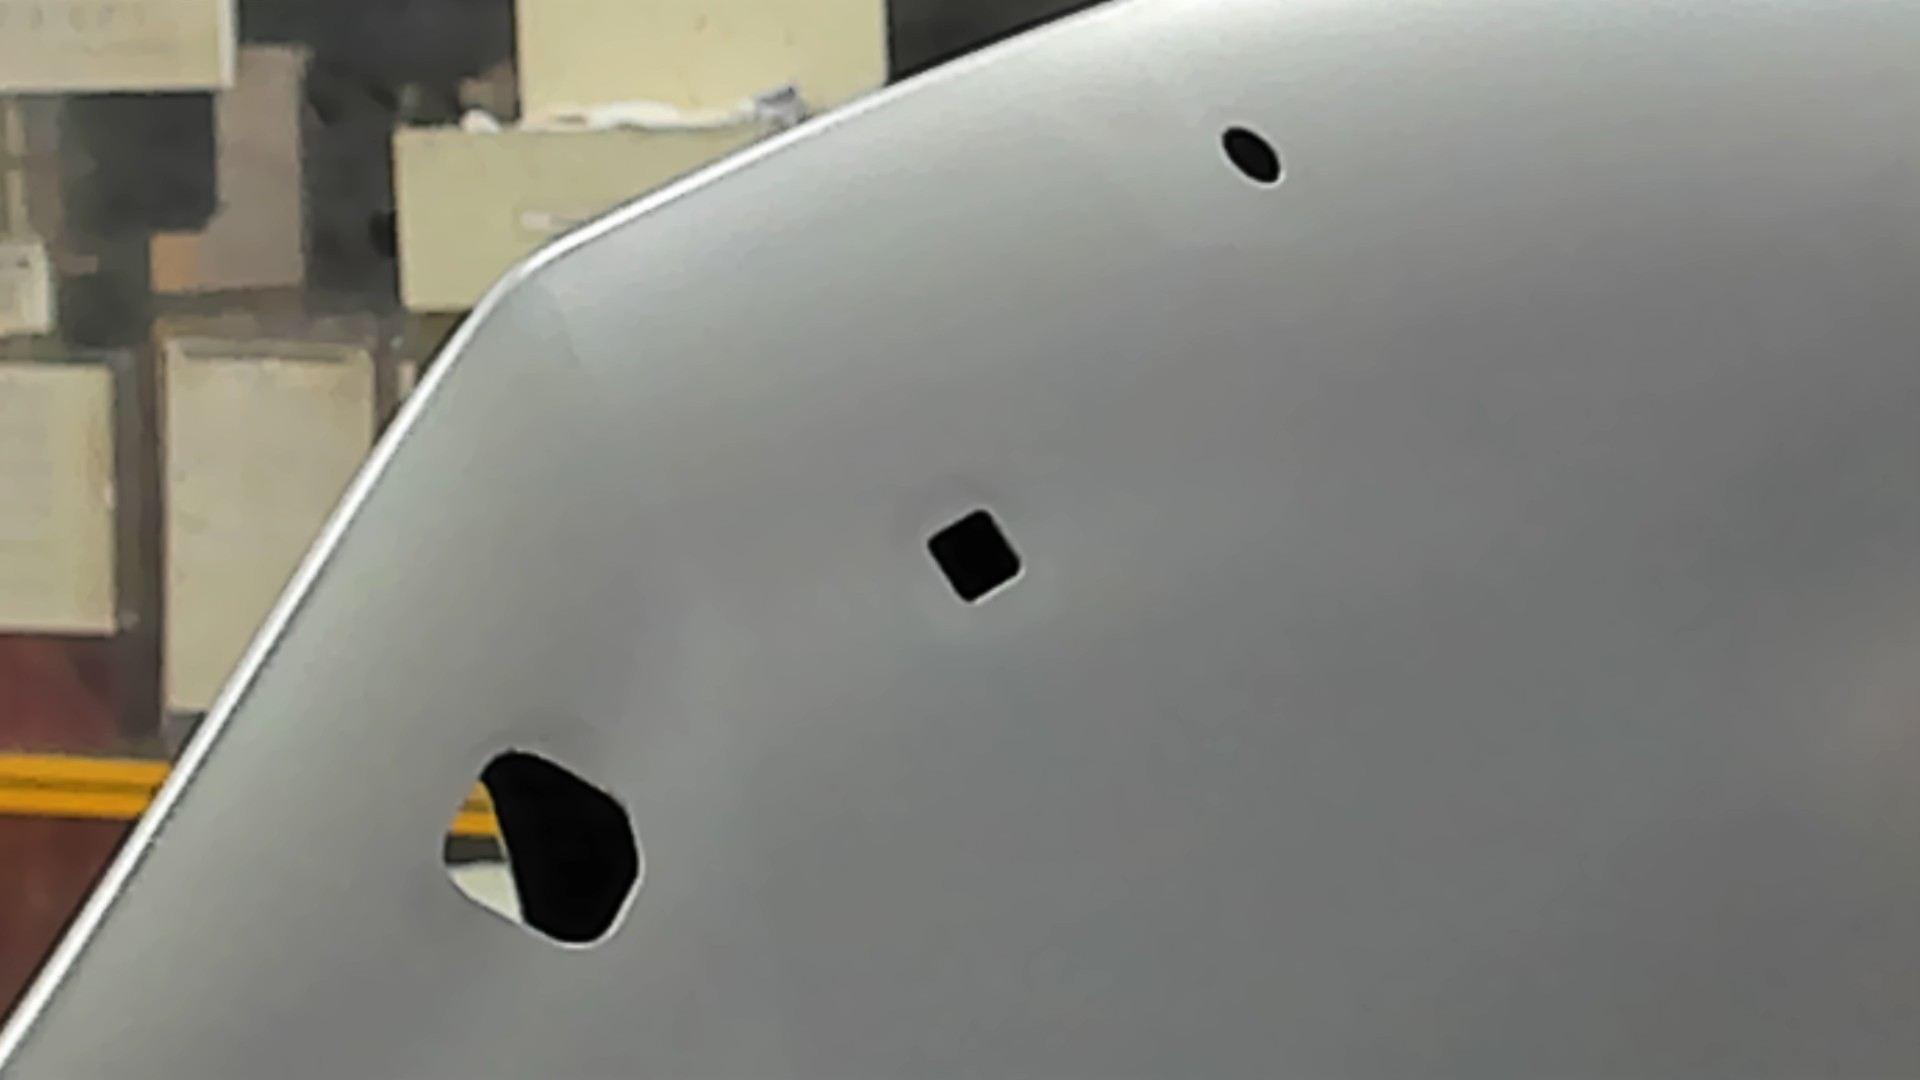chico: (1218, 123, 1283, 189)
grande: (440, 745, 650, 951)
mediano: (927, 505, 1027, 608)
